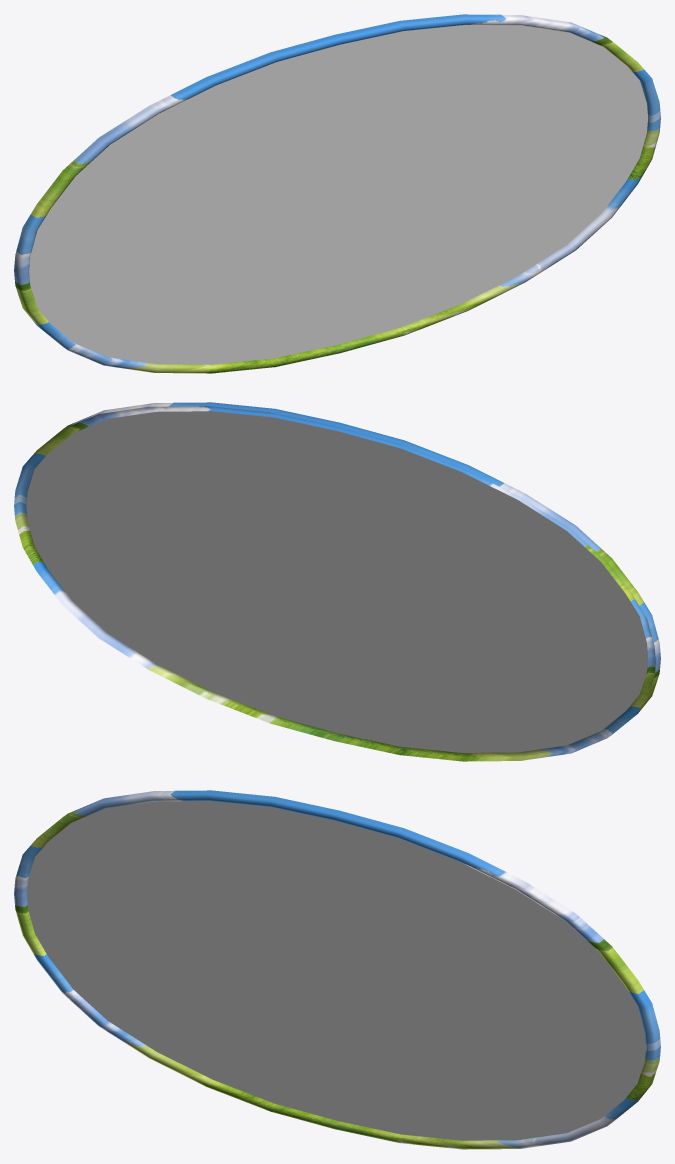
File: Panorama.fbx
3 renders of one model, top to bottom at view 1: azimuth 30°, elevation 25°; view 2: azimuth 150°, elevation 25°; view 3: azimuth 330°, elevation 25°, orthographic.
Parts seen in each view (by area): view 1: Panorama; view 2: Panorama; view 3: Panorama.
Boxes of the visible parts, box(x1,y1,x2,y2) form: Panorama: box(14, 14, 660, 373); Panorama: box(14, 402, 660, 761); Panorama: box(14, 790, 660, 1149).
Bounding box in the file's own units: 4.92 × 2.31 × 0.0758.
Materials: 2 (1 with a texture image).
